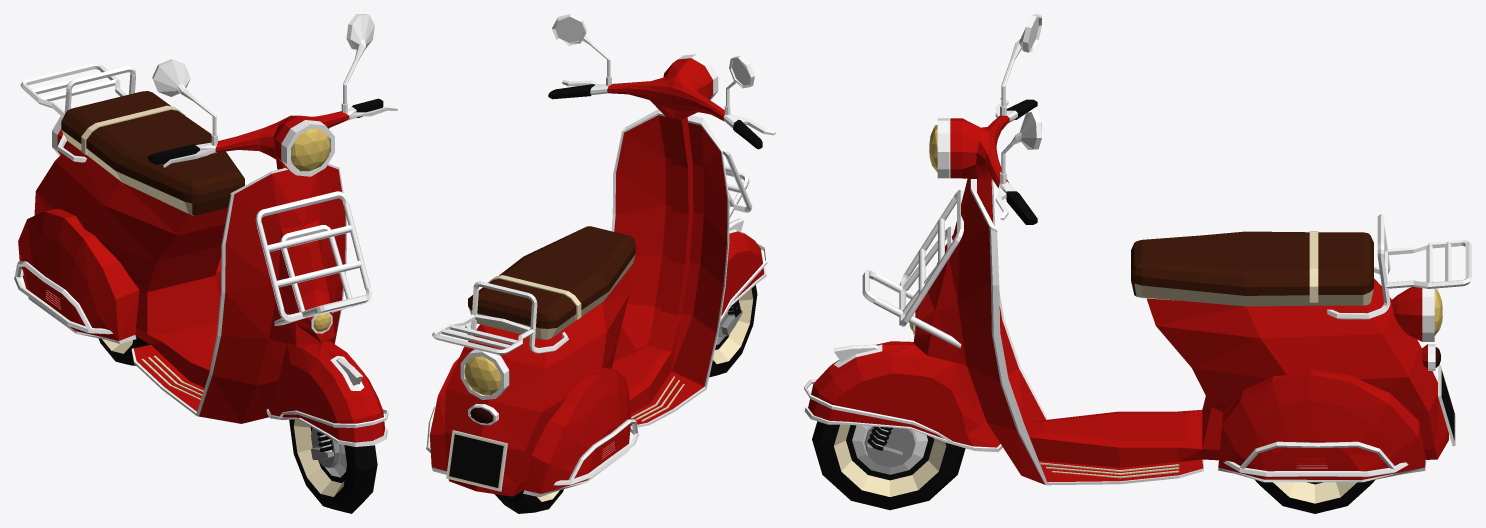
Rendered from Scooter_03.FBX.
3 renders of one model, left to right at view 1: azimuth 30°, elevation 25°; view 2: azimuth 150°, elevation 25°; view 3: azimuth 270°, elevation 25°, orthographic. The views are drawn at different scales.
Parts seen in each view (by area): view 1: Scooter_03, seat, mudguard, handlebar, luggageRack_f, wheel_f, luggageRack_b, headLights_01, light_f, wheel_b; view 2: Scooter_03, seat, handlebar, luggageRack_b, mudguard, licensePlate_b, wheel_f, tailLights, lights, wheel_b, luggageRack_f; view 3: Scooter_03, seat, mudguard, wheel_f, handlebar, luggageRack_f, luggageRack_b, wheel_b, lights, light_f, licensePlate_b.
Part boxes in pixels (x1,y1,x2,y2): Scooter_03: (14, 144, 346, 423); seat: (61, 91, 244, 215); mudguard: (266, 340, 388, 467); handlebar: (148, 14, 397, 170); luggageRack_f: (255, 191, 371, 325); wheel_f: (289, 419, 377, 513); luggageRack_b: (20, 63, 135, 162); headLights_01: (291, 128, 330, 171); light_f: (281, 120, 334, 176); wheel_b: (98, 336, 150, 365); Scooter_03: (426, 109, 729, 497); seat: (468, 226, 635, 339); handlebar: (548, 14, 775, 149); luggageRack_b: (432, 281, 568, 354); mudguard: (718, 218, 767, 337); licensePlate_b: (446, 430, 507, 491); wheel_f: (709, 285, 757, 377); tailLights: (464, 356, 500, 423); lights: (460, 349, 510, 425); wheel_b: (494, 489, 563, 513); luggageRack_f: (720, 146, 752, 217); Scooter_03: (913, 178, 1448, 485); seat: (1131, 231, 1373, 306); mudguard: (804, 341, 1002, 467); wheel_f: (812, 421, 965, 510); handlebar: (950, 14, 1041, 224); luggageRack_f: (862, 190, 963, 348); luggageRack_b: (1327, 214, 1471, 319); wheel_b: (1255, 465, 1375, 513); lights: (1391, 281, 1435, 370); light_f: (937, 118, 949, 178); licensePlate_b: (1438, 365, 1455, 446).
Bounding box in the file's own units: 8.46 × 14.65 × 19.82.
